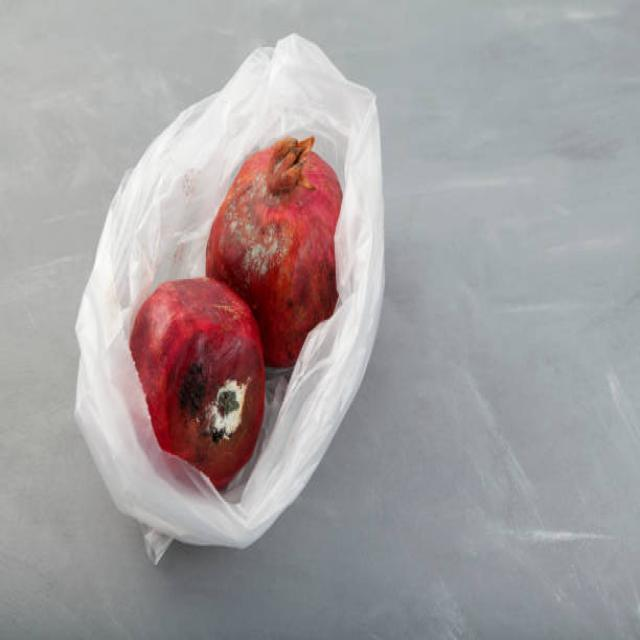Rotten: (204, 126, 348, 362), (129, 275, 266, 488)
